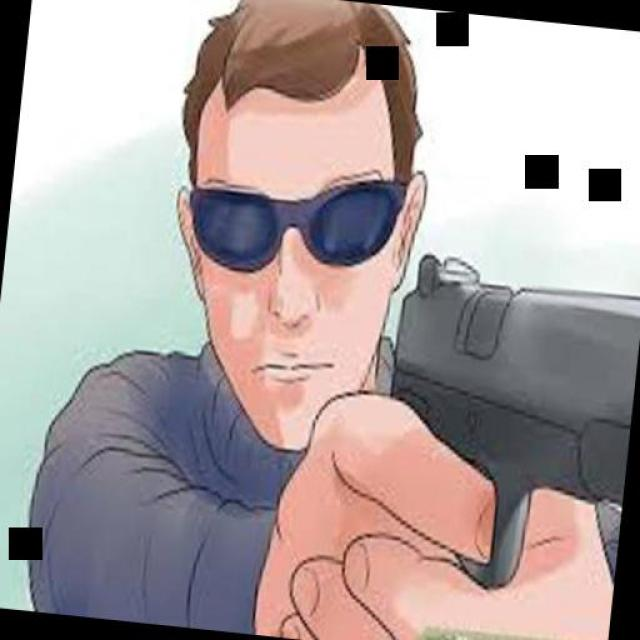gun: (364, 240, 640, 610)
